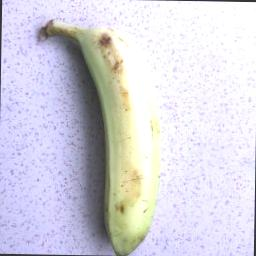Banana Ripe: (42, 13, 190, 256)
